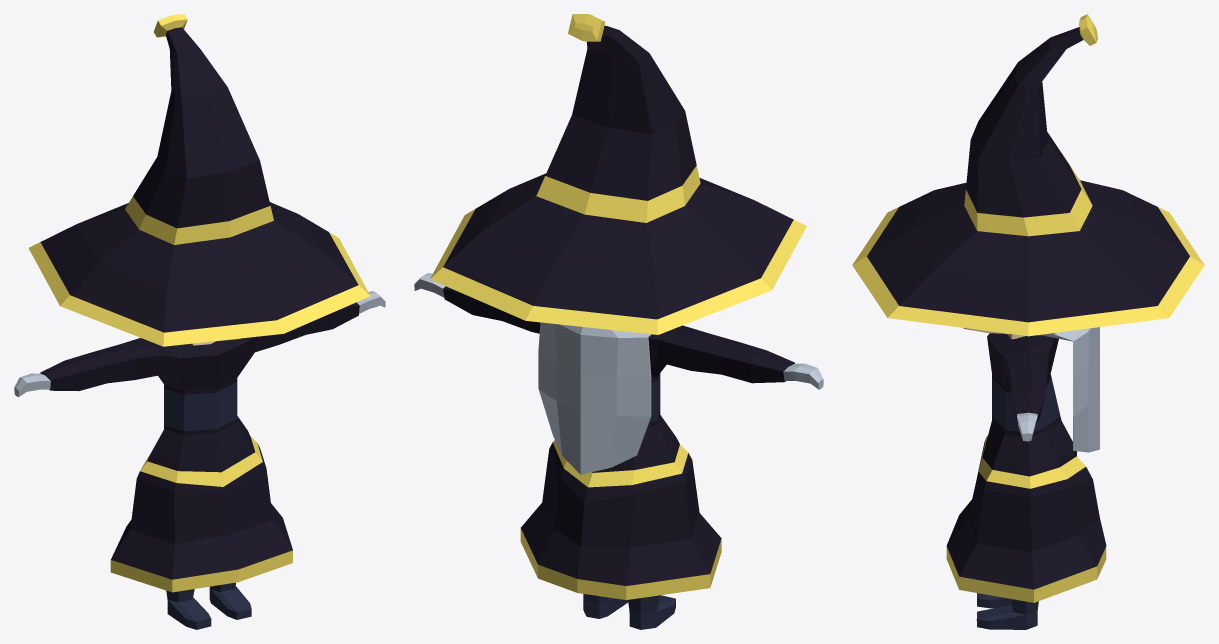
File: witch.glb
3 renders of one model, left to right at view 1: azimuth 30°, elevation 25°; view 2: azimuth 150°, elevation 25°; view 3: azimuth 270°, elevation 25°, orthographic. The views are drawn at different scales.
Parts seen in each view (by area): view 1: ChibiWitch; view 2: ChibiWitch; view 3: ChibiWitch.
Part boxes in pixels (x1,y1,x2,y2): ChibiWitch: (14, 14, 385, 629); ChibiWitch: (414, 14, 823, 629); ChibiWitch: (852, 14, 1204, 629).
Bounding box in the file's own units: 5.43 × 8.07 × 4.33.
